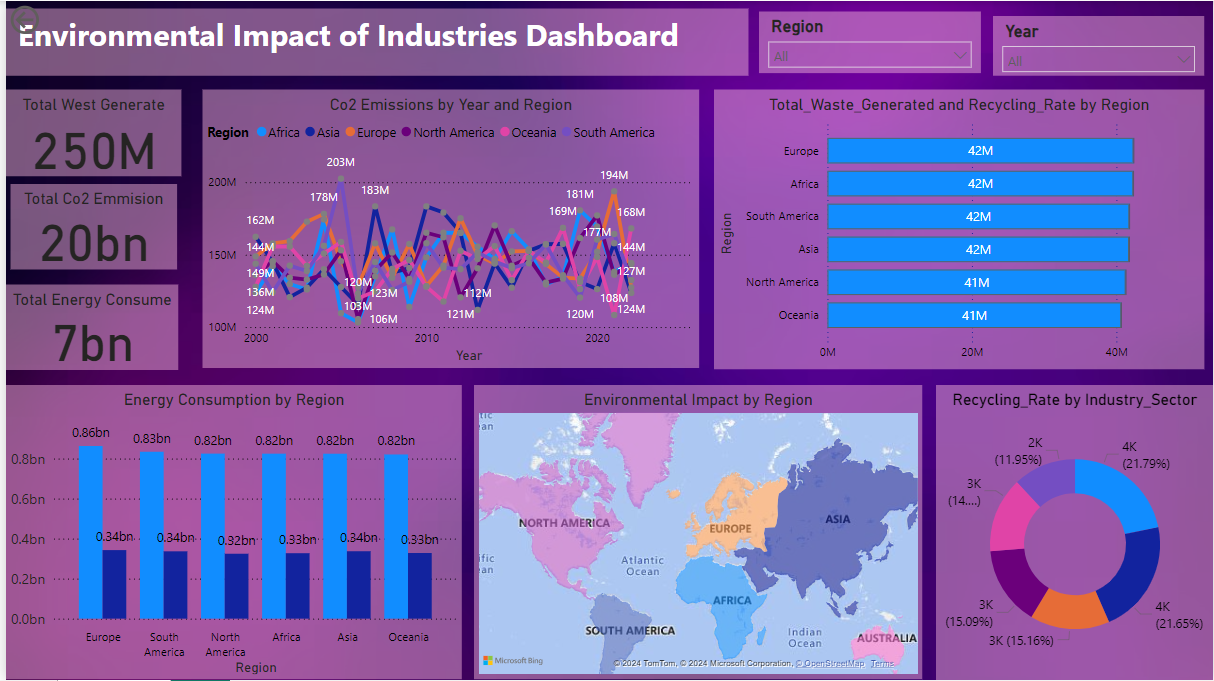

Layout of this report page (visuals, bound fields, positions):
{"tool":"powerbi","page":{"name":"Page 1","canvas":[1280,720],"ordinal":0},"visuals":[{"type":"textbox","box":[0,8,787.4,71.6],"z":0},{"type":"lineChart","title":"Co2 Emissions by Year and Region","fields":{"Category":["refined_environmental_impact_industries_dashboard_10000.Year"],"Y":["refined_environmental_impact_industries_dashboard_10000.Total Emissions"],"Series":["refined_environmental_impact_industries_dashboard_10000.Region"]},"box":[208.3,93.3,526.7,295],"z":1000},{"type":"clusteredColumnChart","title":"Energy Consumption by Region","fields":{"Category":["refined_environmental_impact_industries_dashboard_10000.Region"],"Y":["Sum(refined_environmental_impact_industries_dashboard_10000.Non_Renewable_Energy_Consumption_MWh)","Sum(refined_environmental_impact_industries_dashboard_10000.Renewable_Energy_Consumption_MWh)"]},"box":[0,407.2,483.5,311.8],"z":2000},{"type":"barChart","title":"Total_Waste_Generated and Recycling_Rate by Region","fields":{"Category":["refined_environmental_impact_industries_dashboard_10000.Region"],"Y":["Sum(refined_environmental_impact_industries_dashboard_10000.Total_Waste_Generated_Tons)","Sum(refined_environmental_impact_industries_dashboard_10000.Recycling_Rate_Percentage)"]},"box":[750,93.3,520,296.7],"z":3000},{"type":"card","title":" Total Co2 Emmision","fields":{"Values":["Sum(refined_environmental_impact_industries_dashboard_10000.CO2_Emissions_Metric_Tons)"]},"box":[4.8,194.1,176.6,90.7],"z":4000},{"type":"card","title":"Total Energy Consume","fields":{"Values":["Sum(refined_environmental_impact_industries_dashboard_10000.Total_Energy_Consumption_MWh)"]},"box":[0,300.6,182.9,90.7],"z":5000},{"type":"card","title":"Total West Generate","fields":{"Values":["Sum(refined_environmental_impact_industries_dashboard_10000.Total_Waste_Generated_Tons)"]},"box":[0,93.8,186.1,92.3],"z":6000},{"type":"filledMap","title":"Environmental Impact by Region","fields":{"Category":["refined_environmental_impact_industries_dashboard_10000.Region"],"Series":["refined_environmental_impact_industries_dashboard_10000.CO2_Emissions_Metric_Tons"]},"box":[496.3,407.2,475.6,311.8],"z":7000},{"type":"donutChart","title":"Recycling_Rate by Industry_Sector","fields":{"Y":["Sum(refined_environmental_impact_industries_dashboard_10000.Recycling_Rate_Percentage)"],"Category":["refined_environmental_impact_industries_dashboard_10000.Industry_Sector"]},"box":[986.2,407.2,294.3,313.4],"z":8000},{"type":"slicer","fields":{"Values":["refined_environmental_impact_industries_dashboard_10000.Region"]},"box":[798.5,11.1,235.4,65.2],"z":9000},{"type":"slicer","fields":{"Values":["refined_environmental_impact_industries_dashboard_10000.Year"]},"box":[1046.6,15.9,224.3,63.6],"z":10000},{"type":"actionButton","box":[0,0,100,40],"z":11000}]}

Visuals, with their boxes in screenshot pixels (x1, y1, x2, y2), scaled from the page's 1280x720 canvas onto the 1214x681 screenshot:
textbox: crop(0, 8, 747, 75)
"Co2 Emissions by Year and Region" lineChart: crop(198, 88, 697, 367)
"Energy Consumption by Region" clusteredColumnChart: crop(0, 385, 459, 680)
"Total_Waste_Generated and Recycling_Rate by Region" barChart: crop(711, 88, 1205, 369)
" Total Co2 Emmision" card: crop(5, 184, 172, 269)
"Total Energy Consume" card: crop(0, 284, 173, 370)
"Total West Generate" card: crop(0, 89, 177, 176)
"Environmental Impact by Region" filledMap: crop(471, 385, 922, 680)
"Recycling_Rate by Industry_Sector" donutChart: crop(935, 385, 1213, 680)
slicer - refined_environmental_impact_industries_dashboard_10000.Region: crop(757, 10, 981, 72)
slicer - refined_environmental_impact_industries_dashboard_10000.Year: crop(993, 15, 1205, 75)
actionButton: crop(0, 0, 95, 38)
